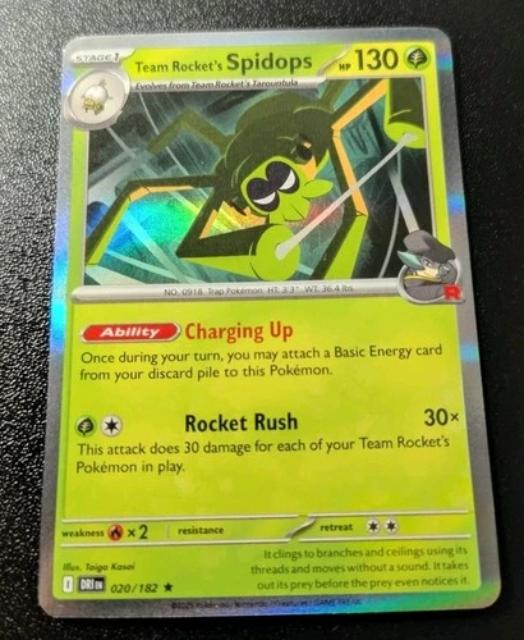Card: (33, 22, 504, 620)
Name: (128, 50, 312, 78)
